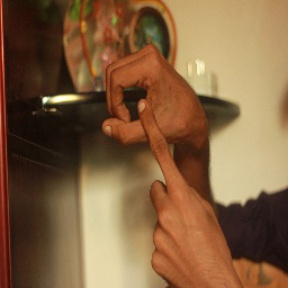Q: (99, 41, 209, 238)
